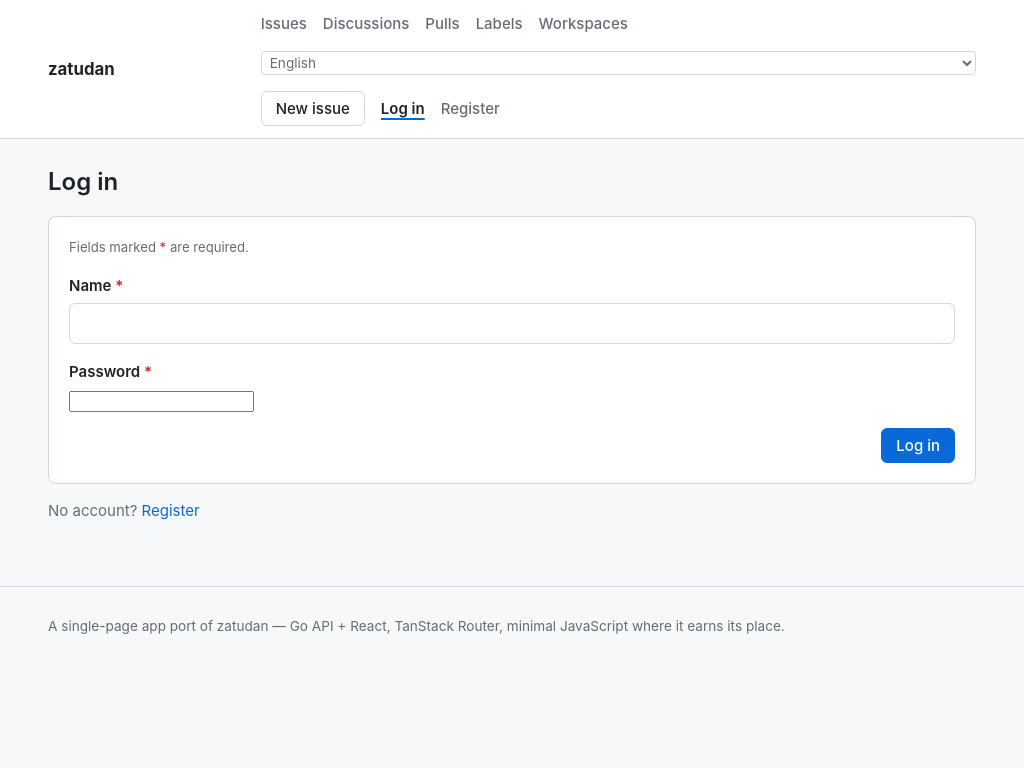
Test: route: /login › logs in and navigates to next
The width and height of the screenshot is (1024, 768).
Step 1. Type "alice" into the field labelled "Name *" → {"x": 512, "y": 323}, box [69, 303, 955, 344]
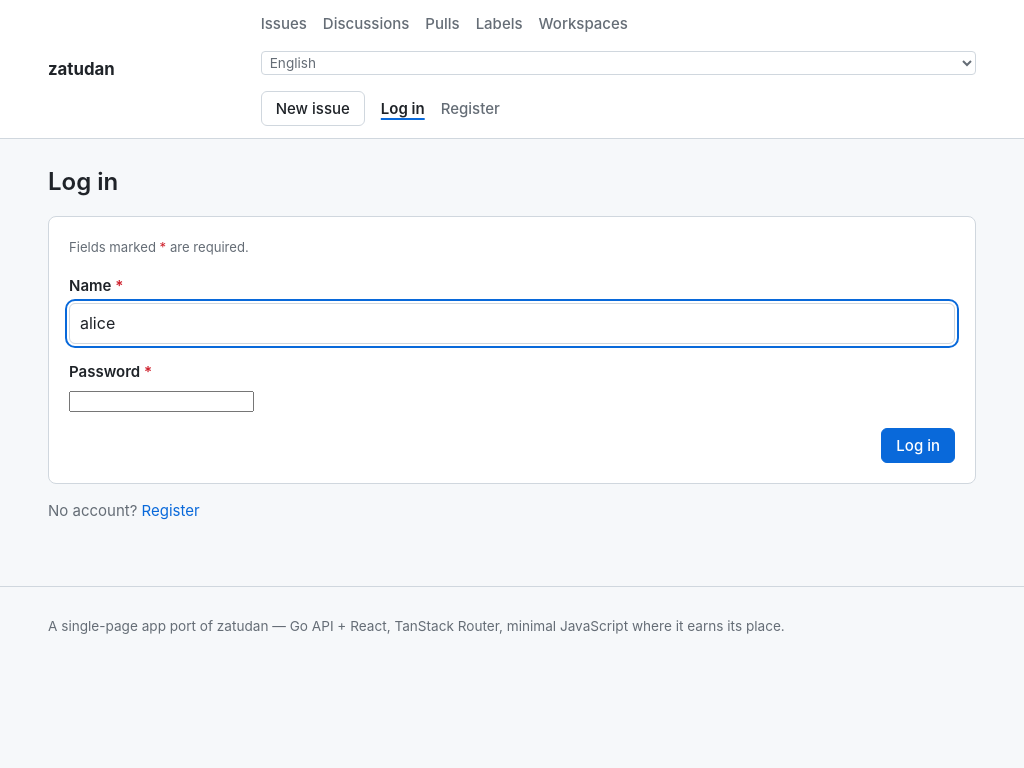
Step 2. Type "password1" into the password field labelled "Password *" → {"x": 162, "y": 402}, box [69, 391, 254, 412]
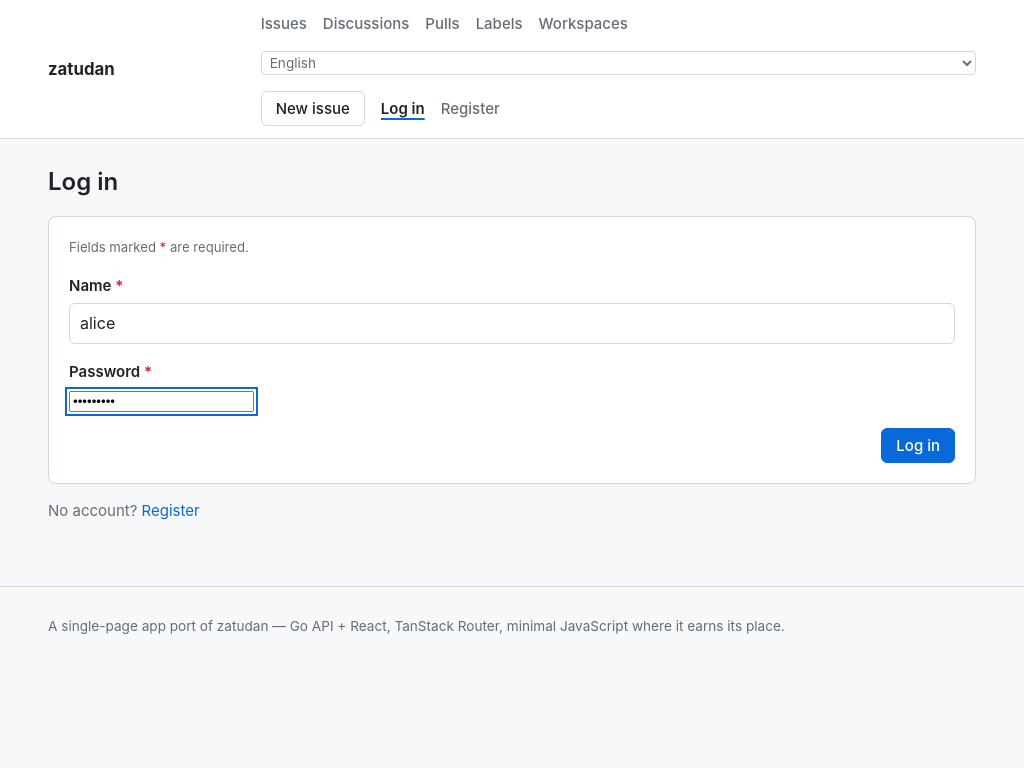
Step 3. Click the button "Log in" → {"x": 918, "y": 446}, box [881, 428, 955, 463]
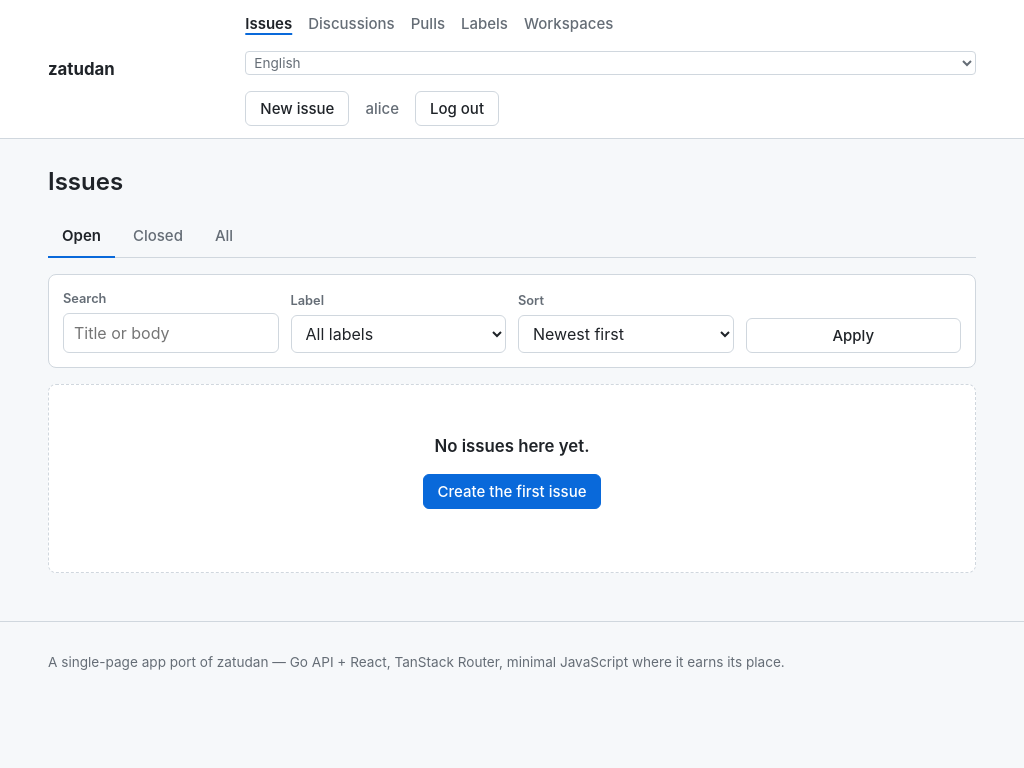
Expected: the heading "Issues" is shown, [48, 163, 123, 200]
Expected: the text "alice" is shown, [365, 97, 399, 120]
